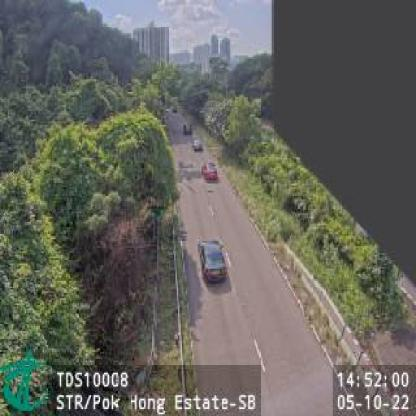Car: (198, 237, 226, 281), (202, 160, 217, 180), (190, 138, 201, 150)
